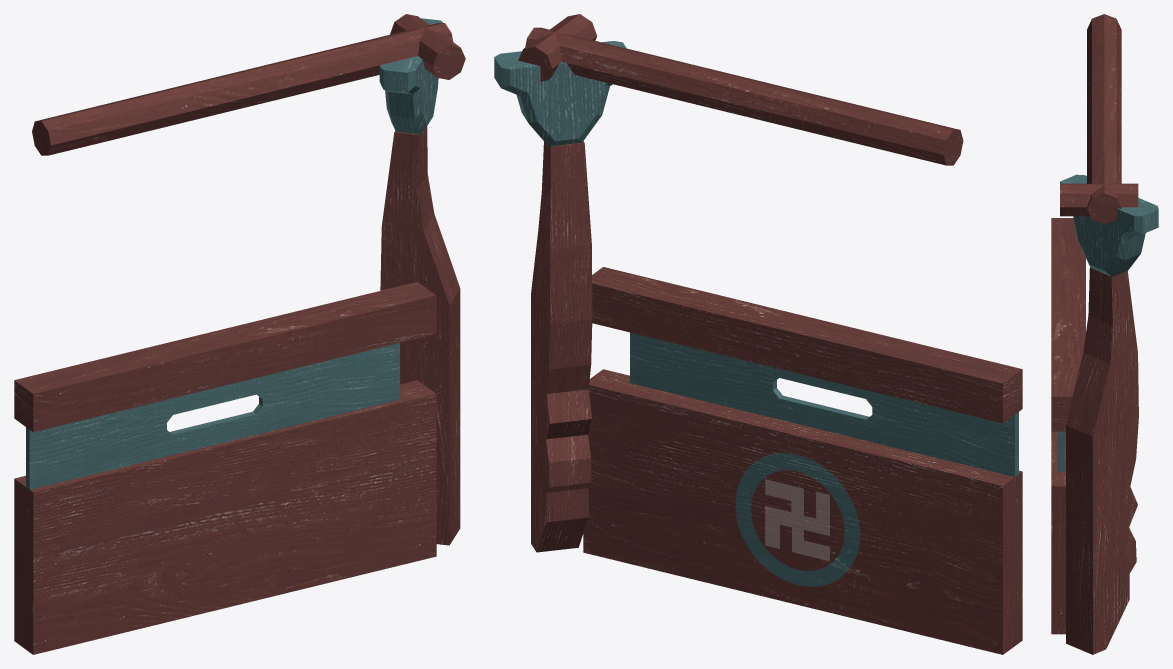
File: SM_Song_Jong_Rail_C.fbx
3 views of the same model, side by side, from view 1: azimuth 30°, elevation 25°; view 2: azimuth 150°, elevation 25°; view 3: azimuth 270°, elevation 25° (orthographic). The views are drawn at different scales.
Parts seen in each view (by area): view 1: SM_Song_Jong_Rail_C; view 2: SM_Song_Jong_Rail_C; view 3: SM_Song_Jong_Rail_C.
Part boxes in pixels (box(x1,y1,x2,y2)): SM_Song_Jong_Rail_C: box(14, 14, 465, 654); SM_Song_Jong_Rail_C: box(494, 14, 1022, 654); SM_Song_Jong_Rail_C: box(1051, 14, 1158, 654).
Size of the model in its own units: 69.41 by 72.87 by 15.51.
